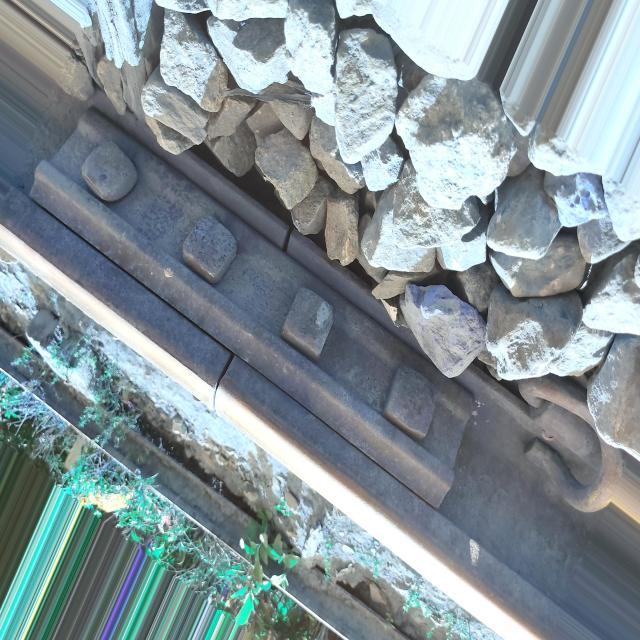Good Fasteners: (517, 374, 623, 512)
Good Joint: (30, 111, 473, 507)
